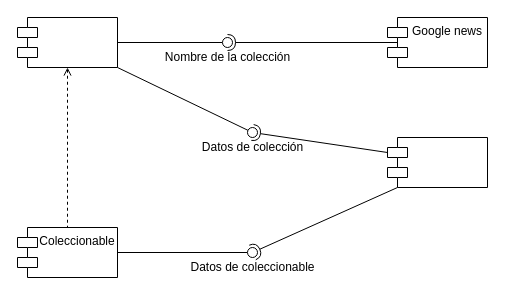
Some shapes in this 505 by 295 pixel diagram are drawn without their labels. The shapes that lost their labels are listed below. From the top down, each one's box as (x1, y1, x2, y2) in pixels, then its label:
(16, 16, 118, 68): Colección
(386, 136, 488, 188): MercadoLibre
